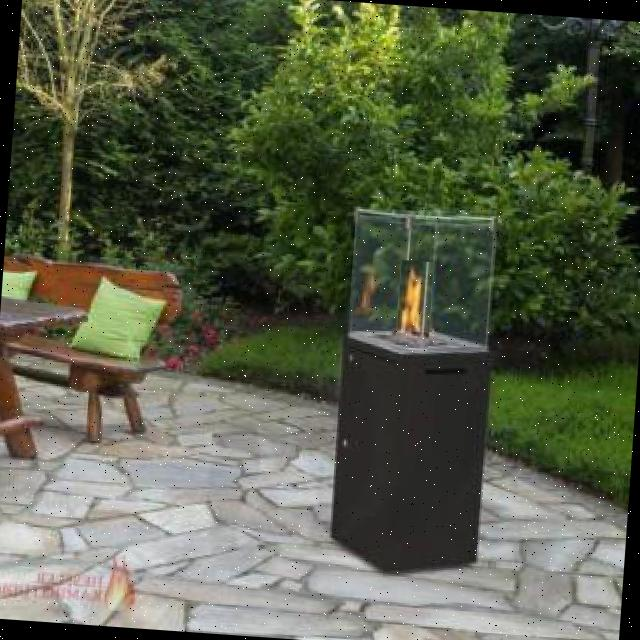fire: (394, 260, 433, 352)
